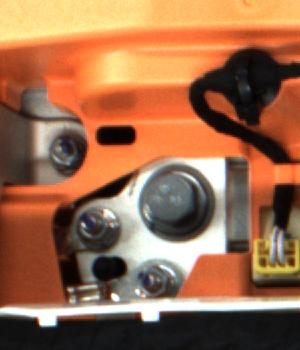nut_b: (134, 161, 219, 234)
screw_s: (129, 258, 174, 299), (41, 133, 81, 172), (74, 207, 112, 244)
